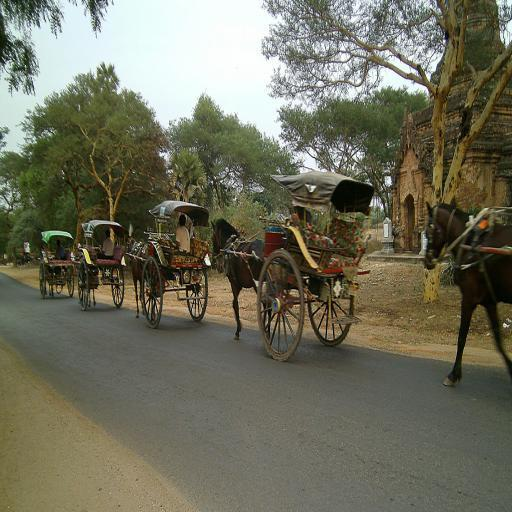horse: (424, 196, 512, 388), (210, 217, 272, 344), (126, 232, 152, 320)
